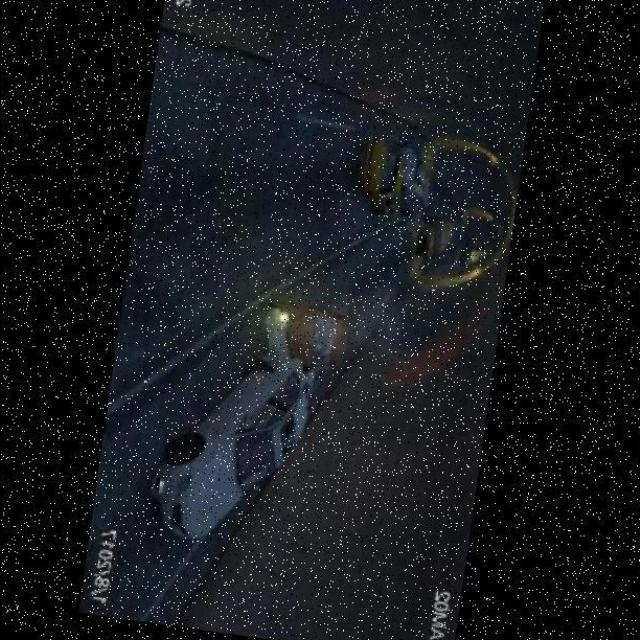accident: (142, 271, 358, 557)
